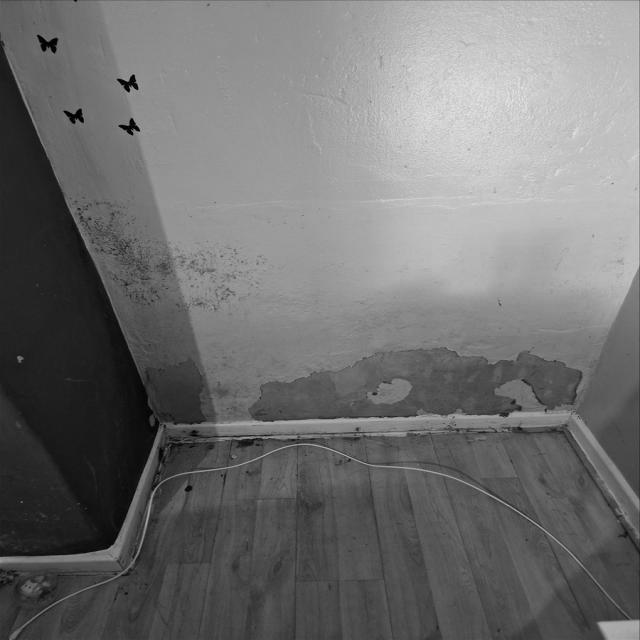peeling paint: (244, 338, 594, 428), (132, 344, 212, 427)
stain marks: (55, 178, 288, 321), (319, 291, 622, 371), (194, 331, 252, 426), (253, 318, 315, 380), (158, 436, 268, 468), (294, 424, 378, 450), (416, 416, 524, 431)
